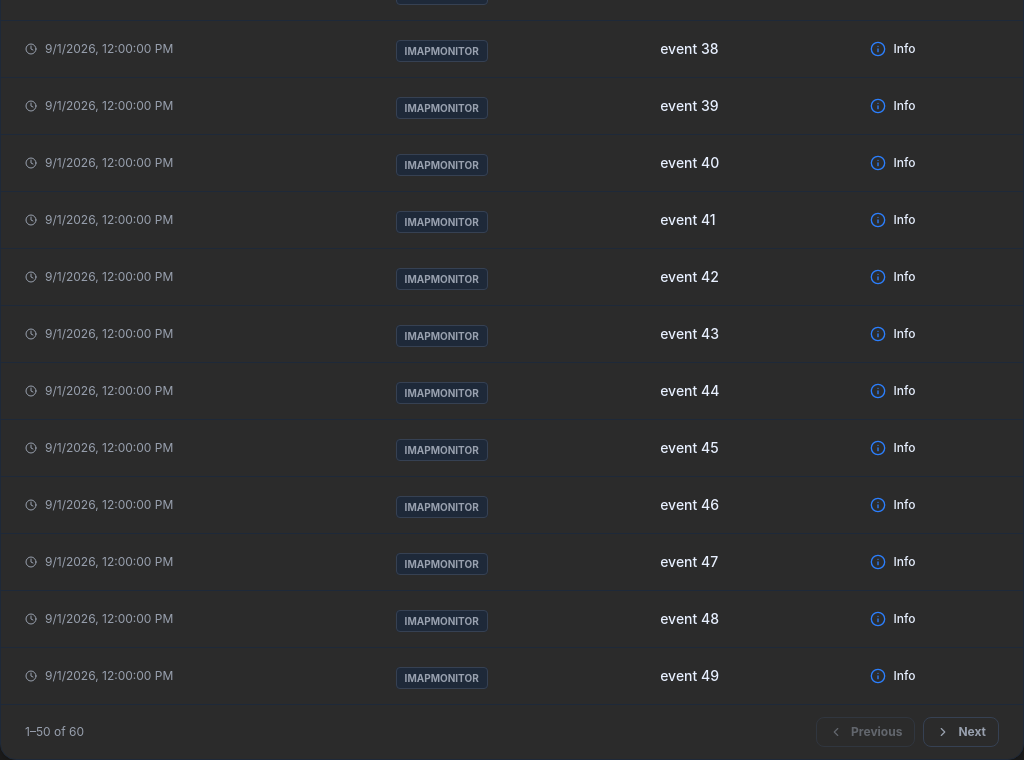
it: Events › pages through results with offset-based params
(page scrolled)
Expected: the text "1–50 of 60" is shown, [25,724,84,740]
Expected: the button with aria-label "previous page" is disabled, [816,717,915,747]
Click the button with aria-label "next page".
click(961, 732)  # box [923,717,999,747]
(page scrolled)
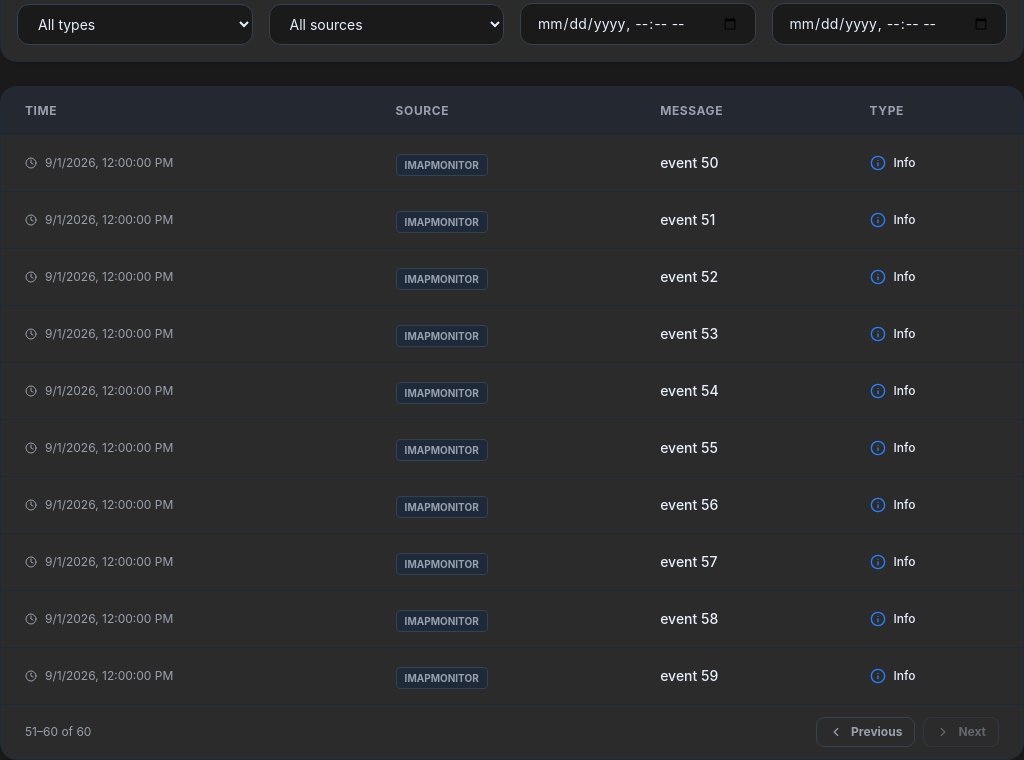
Result: the text "51–60 of 60" is shown at [25,724,91,740]
Result: the button with aria-label "next page" is disabled at [923,717,999,747]
